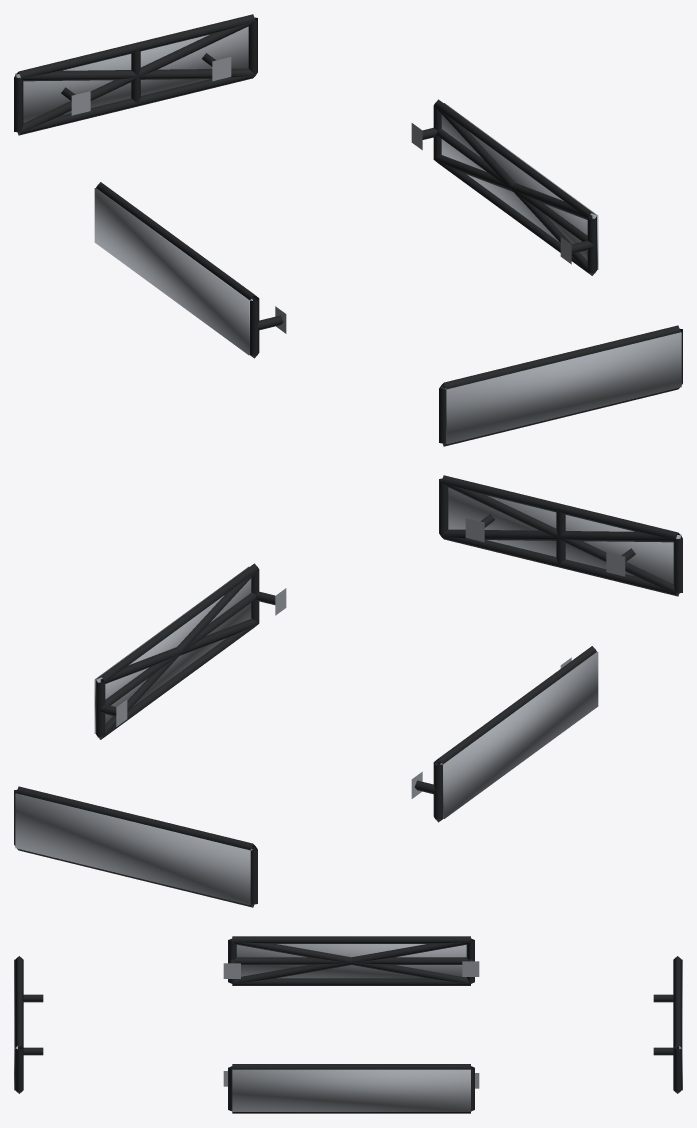
Rendered from dunmere_balsa_protecao.glb.
The picture shows the model from 3 angles, top to bottom: view 1: azimuth 30°, elevation 25°; view 2: azimuth 150°, elevation 25°; view 3: azimuth 270°, elevation 25°; orthographic projection. The views are drawn at different scales.
Visible parts, largest first — view 1: Protection_front_Level3_Details, Protection_left_Level3_Details, Protection_rear_Level1_Details, Protection_rear_Level3_Details, Protection_right_Level1_Details, Protection_rear_Level2_Details, Protection_right_Level2_Details, Protection_right_Level3_Details, Protection_front_Level1_Details, Protection_left_Level1_Details; view 2: Protection_rear_Level3_Details, Protection_left_Level3_Details, Protection_front_Level1_Details, Protection_front_Level3_Details, Protection_right_Level1_Details, Protection_front_Level2_Details, Protection_right_Level2_Details, Protection_right_Level3_Details, Protection_rear_Level1_Details, Protection_left_Level1_Details; view 3: Protection_right_Level3_Details, Protection_left_Level2_Details, Protection_left_Level1_Details, Protection_left_Level3_Details, Protection_right_Level1_Details, Protection_rear_Level1_Details, Protection_front_Level1_Details.
Part boxes in pixels (<box>): Protection_front_Level3_Details: <box>444,332,681,444</box>; Protection_left_Level3_Details: <box>94,188,252,355</box>; Protection_rear_Level1_Details: <box>14,14,257,135</box>; Protection_rear_Level3_Details: <box>15,26,248,123</box>; Protection_right_Level1_Details: <box>411,99,596,275</box>; Protection_rear_Level2_Details: <box>16,21,255,134</box>; Protection_right_Level2_Details: <box>434,106,596,275</box>; Protection_right_Level3_Details: <box>441,103,598,269</box>; Protection_front_Level1_Details: <box>439,325,682,446</box>; Protection_left_Level1_Details: <box>96,182,286,358</box>; Protection_rear_Level3_Details: <box>15,793,252,905</box>; Protection_left_Level3_Details: <box>440,652,598,818</box>; Protection_front_Level1_Details: <box>439,475,682,596</box>; Protection_front_Level3_Details: <box>448,487,681,584</box>; Protection_right_Level1_Details: <box>96,563,286,739</box>; Protection_front_Level2_Details: <box>441,482,680,595</box>; Protection_right_Level2_Details: <box>96,570,258,739</box>; Protection_right_Level3_Details: <box>94,566,251,733</box>; Protection_rear_Level1_Details: <box>14,786,257,907</box>; Protection_left_Level1_Details: <box>411,646,596,822</box>; Protection_right_Level3_Details: <box>232,1069,470,1111</box>; Protection_left_Level2_Details: <box>232,939,471,983</box>; Protection_left_Level1_Details: <box>223,936,479,985</box>; Protection_left_Level3_Details: <box>236,944,466,978</box>; Protection_right_Level1_Details: <box>223,1064,479,1113</box>; Protection_rear_Level1_Details: <box>653,956,681,1093</box>; Protection_front_Level1_Details: <box>15,956,43,1093</box>.
Size of the model in its own units: 2.02 by 0.354 by 4.32.
1 material, 1 textured.
